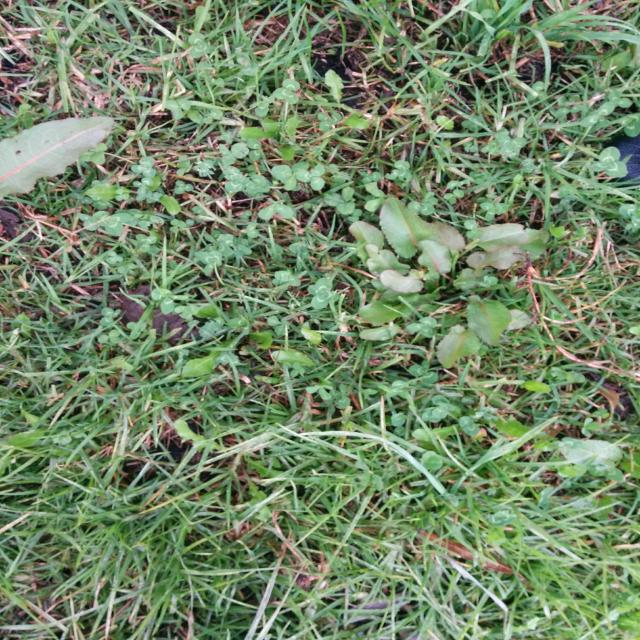Four Leaf Clover: (308, 277, 339, 309)
